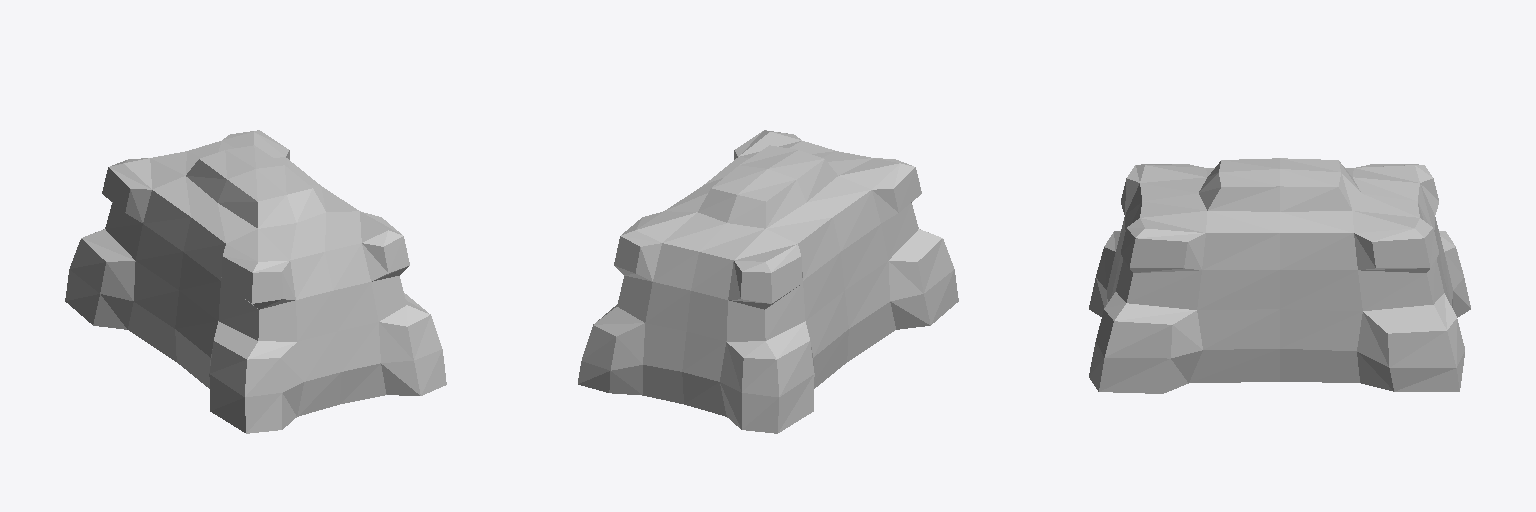
Rendered from Soporte Cadenas Low.obj.
3 views of the same model, side by side, from view 1: azimuth 30°, elevation 25°; view 2: azimuth 150°, elevation 25°; view 3: azimuth 270°, elevation 25° (orthographic).
Parts seen in each view (by area): view 1: Box019; view 2: Box019; view 3: Box019.
Boxes of the visible parts, <box> form: Box019: <box>65,130,446,433</box>; Box019: <box>578,130,958,433</box>; Box019: <box>1089,158,1470,393</box>.
Bounding box in the file's own units: 35.91 × 28.64 × 57.01.